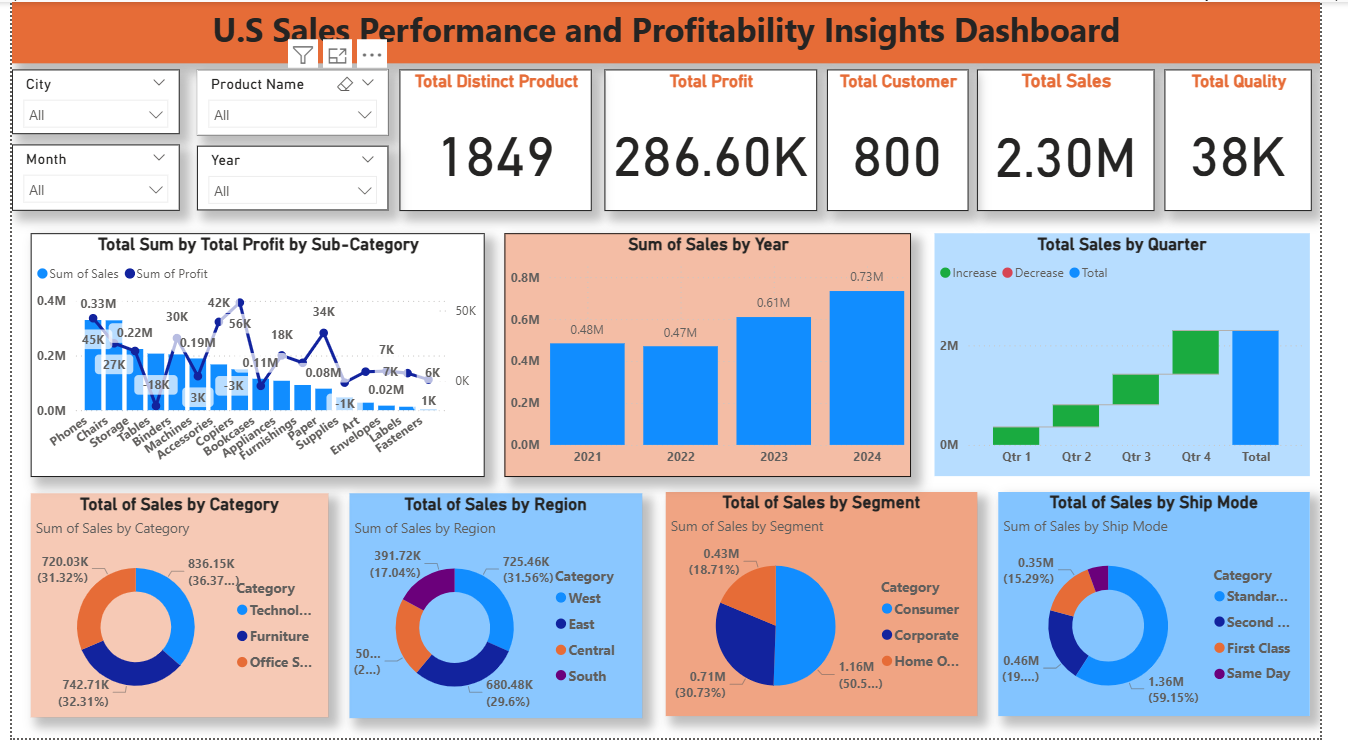

The page's visual inventory and layout, read from the dashboard file:
{"tool":"powerbi","page":{"name":"Page 1","canvas":[1280,720],"ordinal":0},"visuals":[{"type":"textbox","box":[0,0,1280.3,59.9],"z":0},{"type":"slicer","fields":{"Values":["Sales Data.City"]},"box":[0,66,163.9,63.6],"z":1000},{"type":"slicer","fields":{"Values":["Sales Data.Product Name"]},"box":[181,66,187.1,64.8],"z":2000},{"type":"slicer","fields":{"Values":["Sales Data.Order Date.Variation.Date Hierarchy.Month"]},"box":[0,139.4,163.9,64.8],"z":3000},{"type":"card","title":"Total Sales","fields":{"Values":["Sum(Sales Data.Sales)"]},"box":[944,66,173.6,138.2],"z":4000},{"type":"card","title":"Total Profit","fields":{"Values":["Sum(Sales Data.Profit)"]},"box":[579.6,66,207.9,138.2],"z":5000},{"type":"card","title":"Total Quality","fields":{"Values":["Sum(Sales Data.Quantity)"]},"box":[1127.5,66,144.3,138.2],"z":6000},{"type":"card","title":"Total Distinct Product ","fields":{"Values":["Count(Sales Data.Product Name)"]},"box":[379.1,66,188.3,138.2],"z":7000},{"type":"card","title":"Total Customer","fields":{"Values":["Count(Sales Data.Customer ID)"]},"box":[797.3,66,138.2,138.2],"z":8000},{"type":"donutChart","title":"Total of Sales by Category","fields":{"Y":["Sum(Sales Data.Sales)"],"Category":["Sales Data.Category"]},"box":[18.3,480.6,291,218.9],"z":9000},{"type":"donutChart","title":"Total of Sales by Region","fields":{"Y":["Sum(Sales Data.Sales)"],"Category":["Sales Data.Region"]},"box":[330.2,480.6,286.1,220.1],"z":10000},{"type":"pieChart","title":"Total of Sales by Segment","fields":{"Y":["Sum(Sales Data.Sales)"],"Category":["Sales Data.Segment"]},"box":[639.5,479.4,304.5,218.9],"z":11000},{"type":"donutChart","title":"Total of Sales by Ship Mode","fields":{"Y":["Sum(Sales Data.Sales)"],"Category":["Sales Data.Ship Mode"]},"box":[964.8,479.4,304.5,218.9],"z":12000},{"type":"lineStackedColumnComboChart","title":"Total Sum by Total Profit by Sub-Category","fields":{"Y":["Sum(Sales Data.Sales)"],"Category":["Sales Data.Sub-Category"],"Y2":["Sum(Sales Data.Profit)"]},"box":[18.3,226.2,443.9,238.5],"z":13000},{"type":"columnChart","fields":{"Y":["Sum(Sales Data.Sales)"],"Category":["Sales Data.Order Date.Variation.Date Hierarchy.Year"]},"box":[481.8,226.2,397.4,238.5],"z":14000},{"type":"waterfallChart","title":"Total Sales by Quarter","fields":{"Category":["Sales Data.Order Date.Variation.Date Hierarchy.Quarter"],"Y":["Sum(Sales Data.Sales)"]},"box":[902.5,226.2,366.8,237.2],"z":15000},{"type":"slicer","fields":{"Values":["Sales Data.Ship Date.Variation.Date Hierarchy.Year"]},"box":[181,140.6,187.1,63.6],"z":16000}]}

Visuals, with their boxes in screenshot pixels (x1, y1, x2, y2), scaled from the page's 1280x720 canvas onto the 1348x746 screenshot:
textbox: {"left": 0, "top": 0, "right": 1347, "bottom": 62}
slicer - Sales Data.City: {"left": 0, "top": 68, "right": 173, "bottom": 134}
slicer - Sales Data.Product Name: {"left": 191, "top": 68, "right": 388, "bottom": 136}
slicer - Sales Data.Order Date.Variation.Date Hierarchy.Month: {"left": 0, "top": 144, "right": 173, "bottom": 212}
"Total Sales" card: {"left": 994, "top": 68, "right": 1177, "bottom": 212}
"Total Profit" card: {"left": 610, "top": 68, "right": 829, "bottom": 212}
"Total Quality" card: {"left": 1187, "top": 68, "right": 1339, "bottom": 212}
"Total Distinct Product " card: {"left": 399, "top": 68, "right": 598, "bottom": 212}
"Total Customer" card: {"left": 840, "top": 68, "right": 985, "bottom": 212}
"Total of Sales by Category" donutChart: {"left": 19, "top": 498, "right": 326, "bottom": 725}
"Total of Sales by Region" donutChart: {"left": 348, "top": 498, "right": 649, "bottom": 726}
"Total of Sales by Segment" pieChart: {"left": 673, "top": 497, "right": 994, "bottom": 724}
"Total of Sales by Ship Mode" donutChart: {"left": 1016, "top": 497, "right": 1337, "bottom": 724}
"Total Sum by Total Profit by Sub-Category" lineStackedColumnComboChart: {"left": 19, "top": 234, "right": 487, "bottom": 481}
columnChart - Sum(Sales Data.Sales) x Sales Data.Order Date.Variation.Date Hierarchy.Year: {"left": 507, "top": 234, "right": 926, "bottom": 481}
"Total Sales by Quarter" waterfallChart: {"left": 950, "top": 234, "right": 1337, "bottom": 480}
slicer - Sales Data.Ship Date.Variation.Date Hierarchy.Year: {"left": 191, "top": 146, "right": 388, "bottom": 212}
